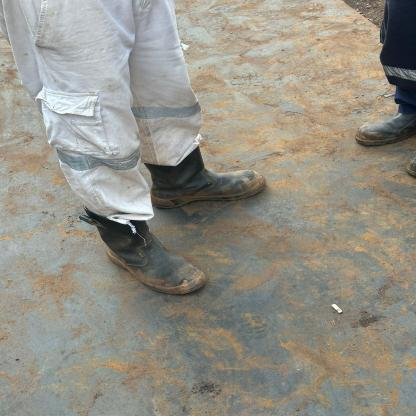bota: (69, 210, 217, 295), (145, 147, 264, 208), (358, 102, 416, 146)
